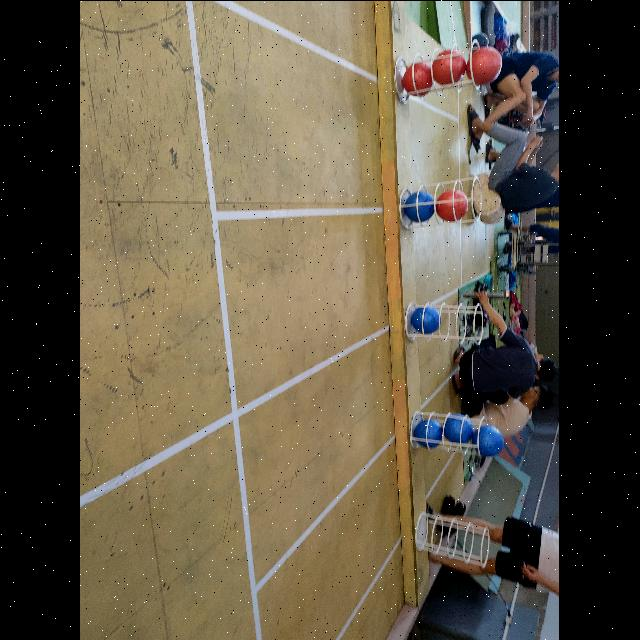B: (405, 190, 435, 222), (412, 305, 442, 333)
R: (467, 46, 503, 84), (433, 50, 467, 86), (436, 189, 469, 221), (402, 62, 433, 94)
